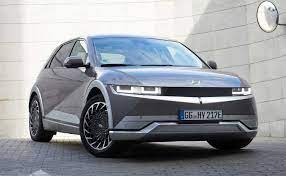Honda Ioniq: (18, 26, 271, 167)
